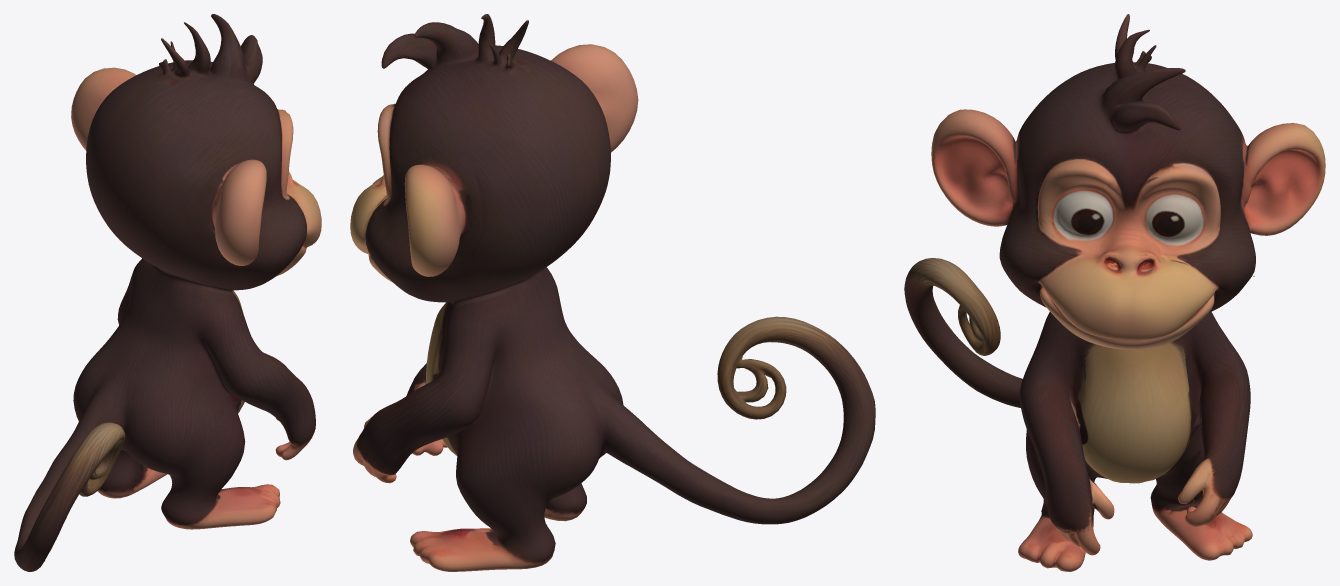
File: monkey_1.fbx
3 renders of one model, left to right at view 1: azimuth 30°, elevation 25°; view 2: azimuth 150°, elevation 25°; view 3: azimuth 270°, elevation 25°, orthographic. The views are drawn at different scales.
Parts seen in each view (by area): view 1: tripo_node_1cbf8968; view 2: tripo_node_1cbf8968; view 3: tripo_node_1cbf8968.
Part boxes in pixels (x1,y1,x2,y2): tripo_node_1cbf8968: (14,14,321,571); tripo_node_1cbf8968: (350,14,875,571); tripo_node_1cbf8968: (904,14,1325,571).
Size of the model in its own units: 82.8 by 99.83 by 73.69.
1 material, 1 textured.
